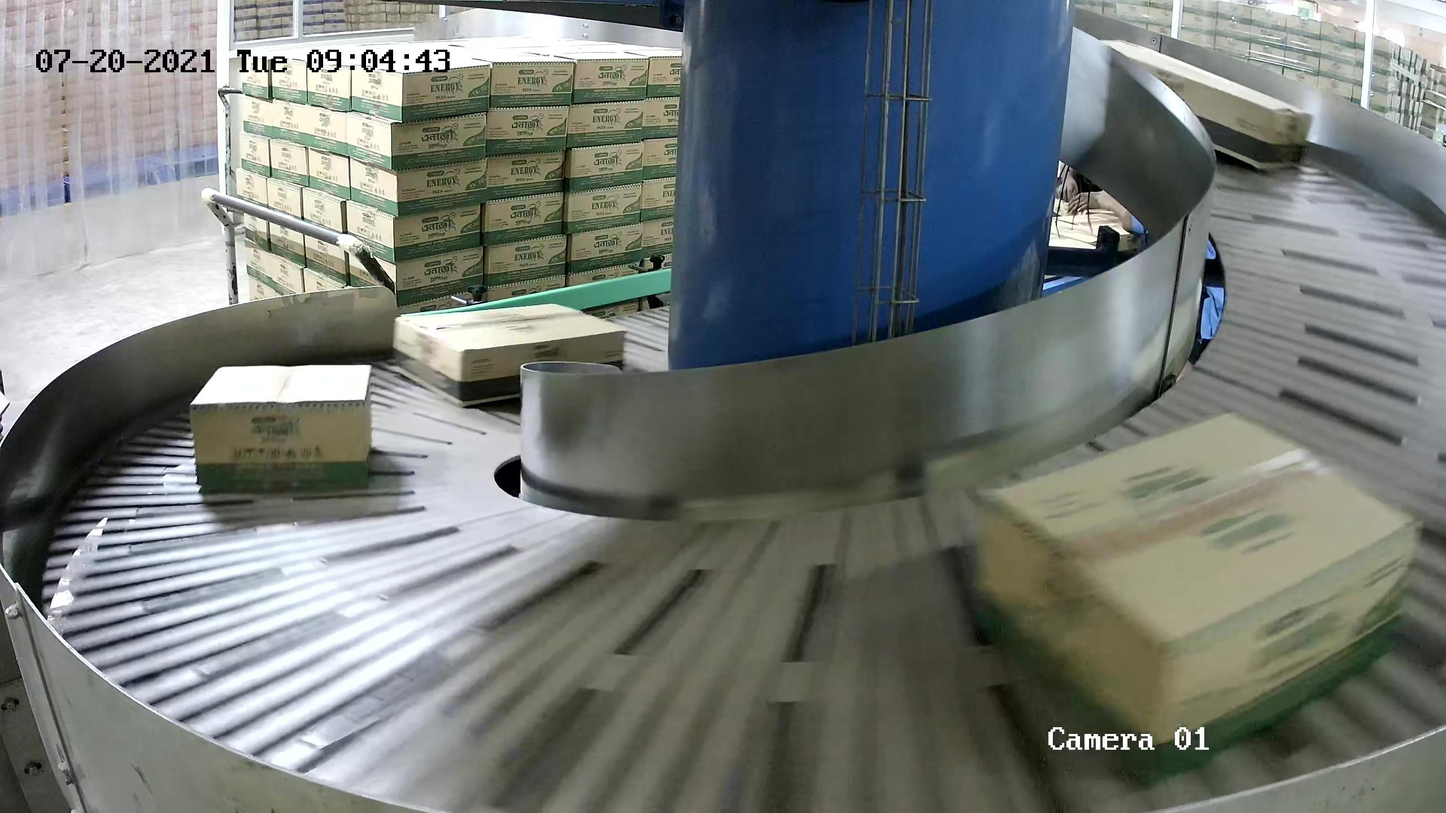Box: (969, 407, 1421, 790), (1090, 35, 1317, 177), (390, 301, 630, 408), (188, 362, 376, 492)
